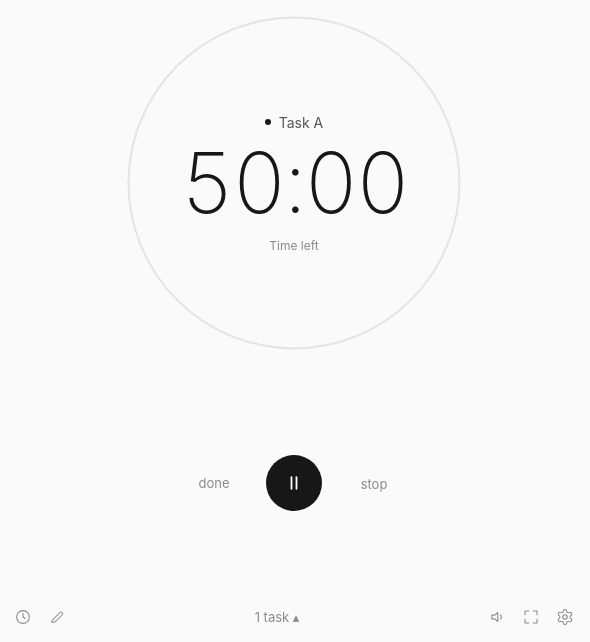
hold to stop › a quick tap does not stop and shows the hint
Press the mouse on the button "stop" at coordinates (374, 485), box x1=354 y1=475 x2=394 y2=495
Wait 1300 ms
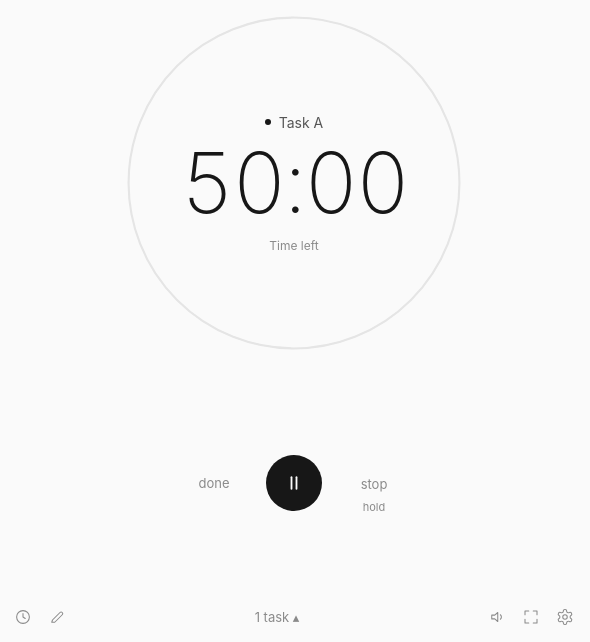
Now the text "hold" is shown, box x1=363 y1=499 x2=385 y2=515
